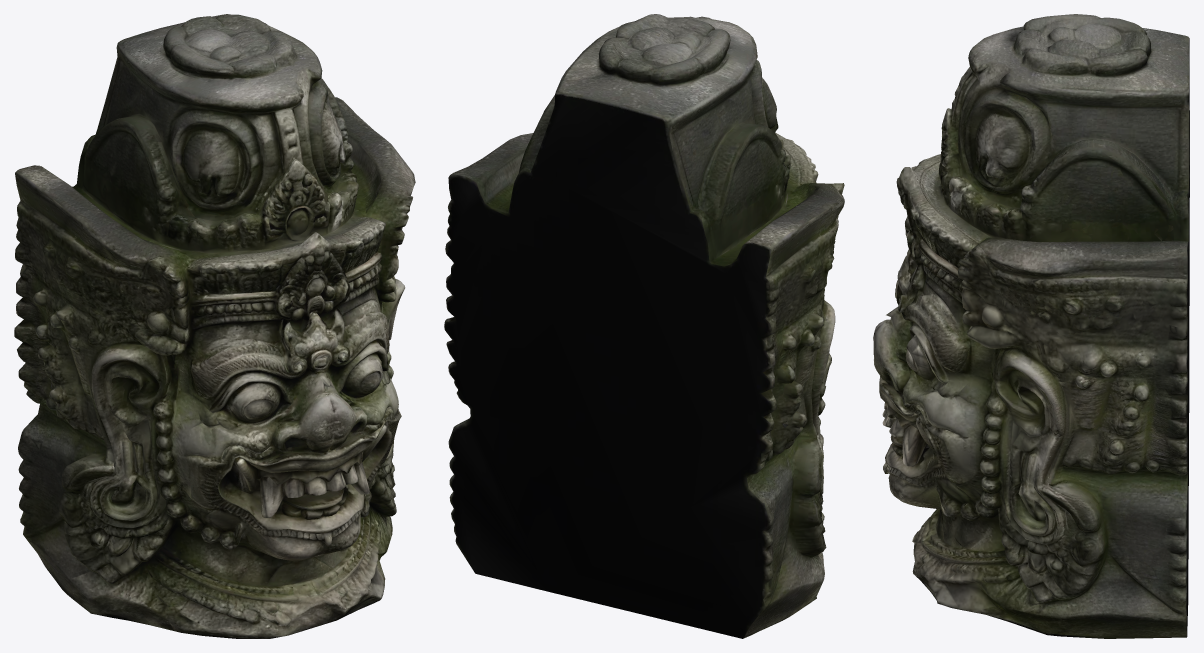
The model's file is stone_idol_head.glb.
The picture shows the model from 3 angles, left to right: view 1: azimuth 30°, elevation 25°; view 2: azimuth 150°, elevation 25°; view 3: azimuth 270°, elevation 25°; orthographic projection.
Visible parts, largest first — view 1: node_0; view 2: node_0; view 3: node_0.
Part boxes in pixels (box(x1,y1,x2,y2)): node_0: box(14, 14, 415, 638); node_0: box(444, 14, 844, 638); node_0: box(873, 14, 1189, 638).
Size of the model in its own units: 0.6421 by 0.9626 by 0.5158.
Materials: 1 (1 with a texture image).
